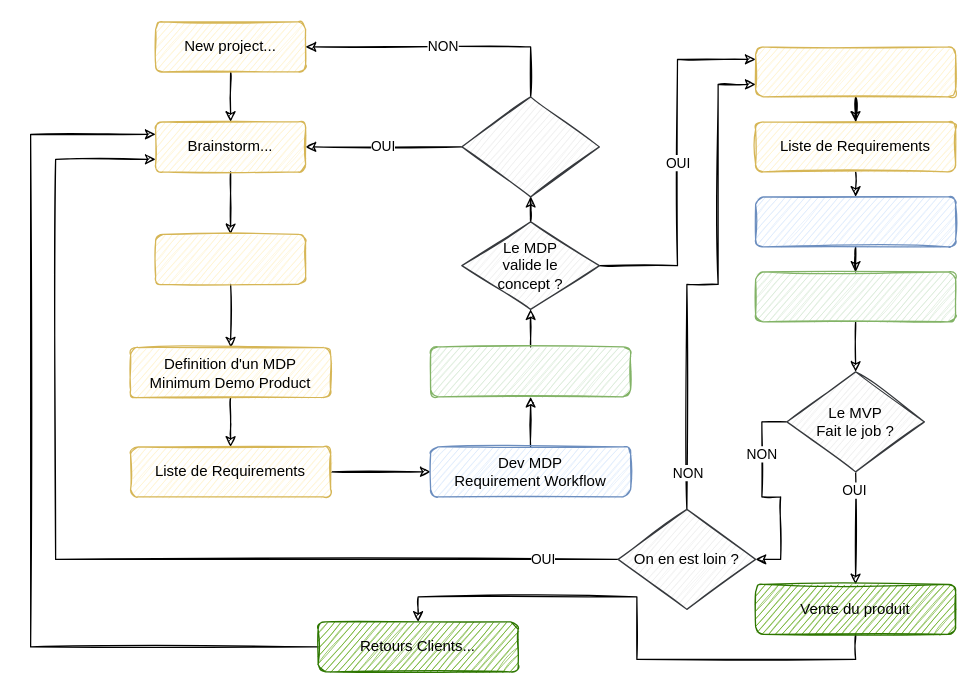
The diagram is 978 pixels wide and 694 high, and some of its shapes have lost their labels. Here are the shapes that lost their labels. From the top down, the centre of each, then its label:
point (855, 71): Definition du MVP Minimum Viable Product
point (530, 146): Est-on sur la bonne voie ?
point (855, 221): Dev MVP Requirement Workflow
point (230, 258): Expression du besoin
point (855, 296): Test du MVP
point (530, 371): Test du MDP
